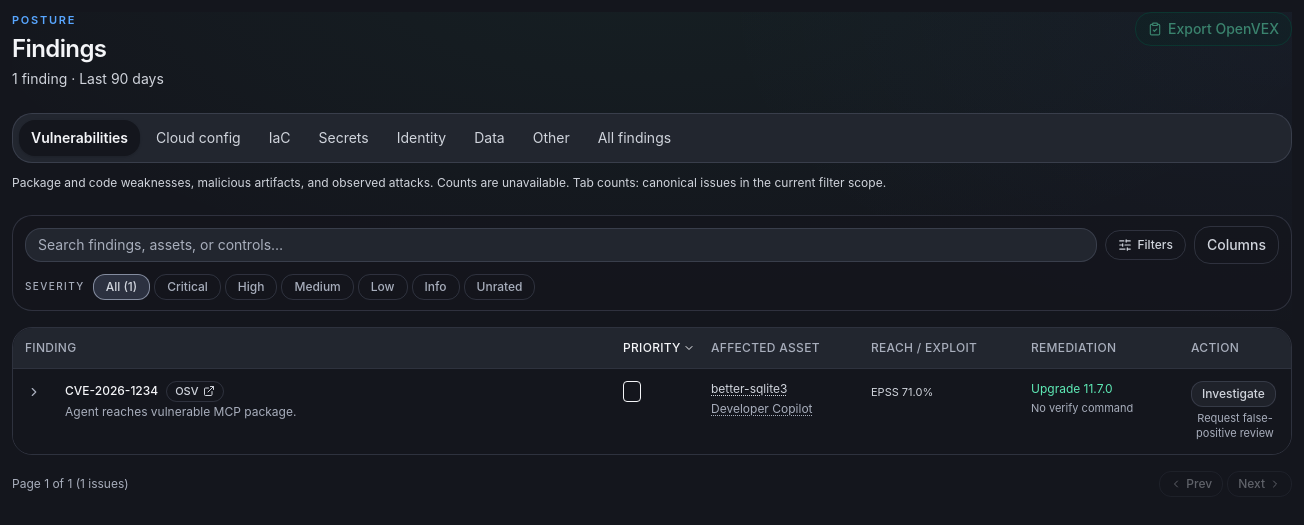
Test: FindingsPage › keeps findings visible while a false-positive request awaits approval
Expected: the button "CVE-2026-1234" is shown, [65, 383, 158, 399]
Click the button "Request false-positive review".
click(1235, 426)  # box [1191, 410, 1279, 442]
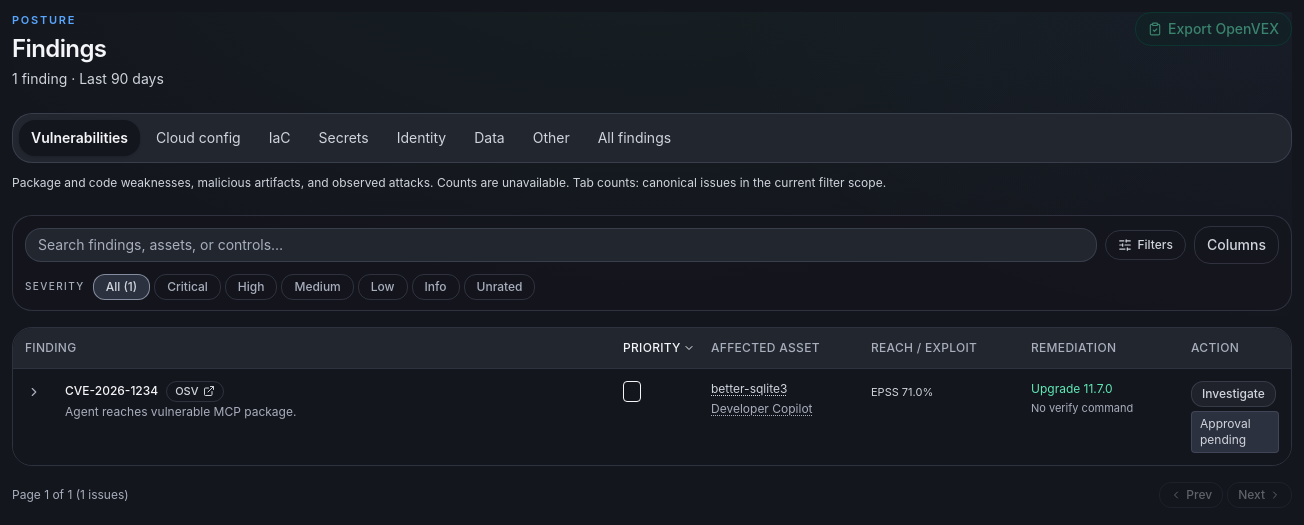
Expected: the button "CVE-2026-1234" is shown, [65, 383, 158, 399]
Result: the text "Approval pending" is shown at [1191, 410, 1279, 452]
